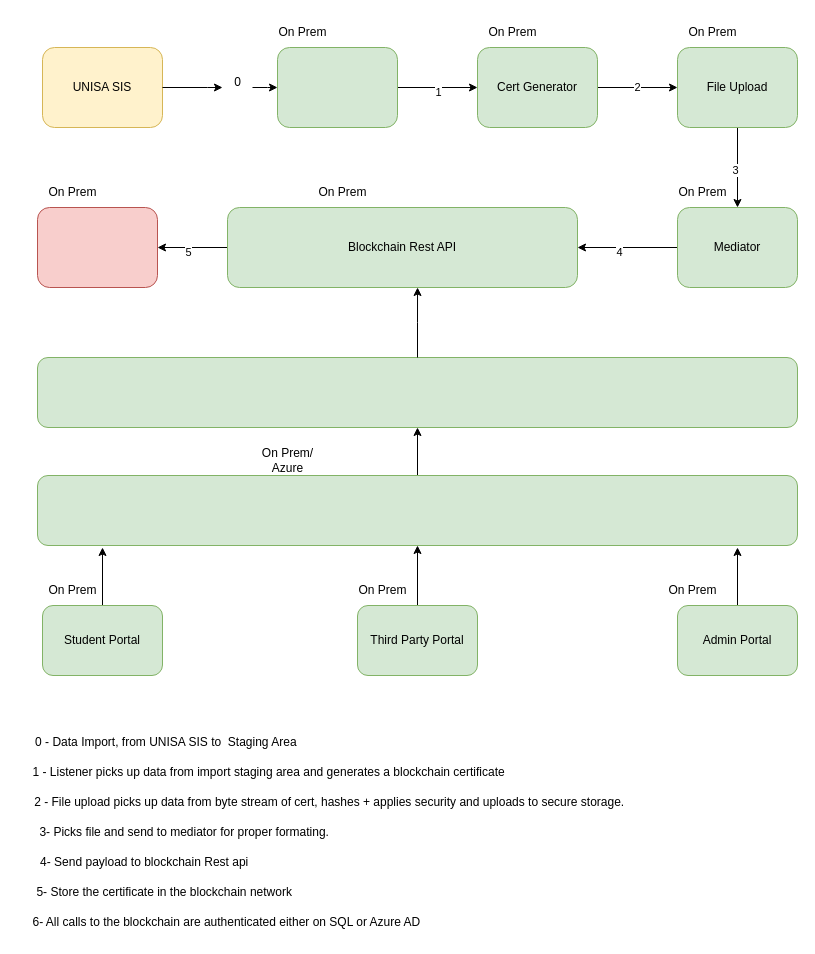
This 815x954 diagram has some shape labels left out. Here are the shapes that lost their labels. From the top down, the centre of each, then its label:
(x=337, y=87): Import
(x=97, y=247): Blockchain Network
(x=417, y=392): User Api
(x=417, y=510): Authentication
